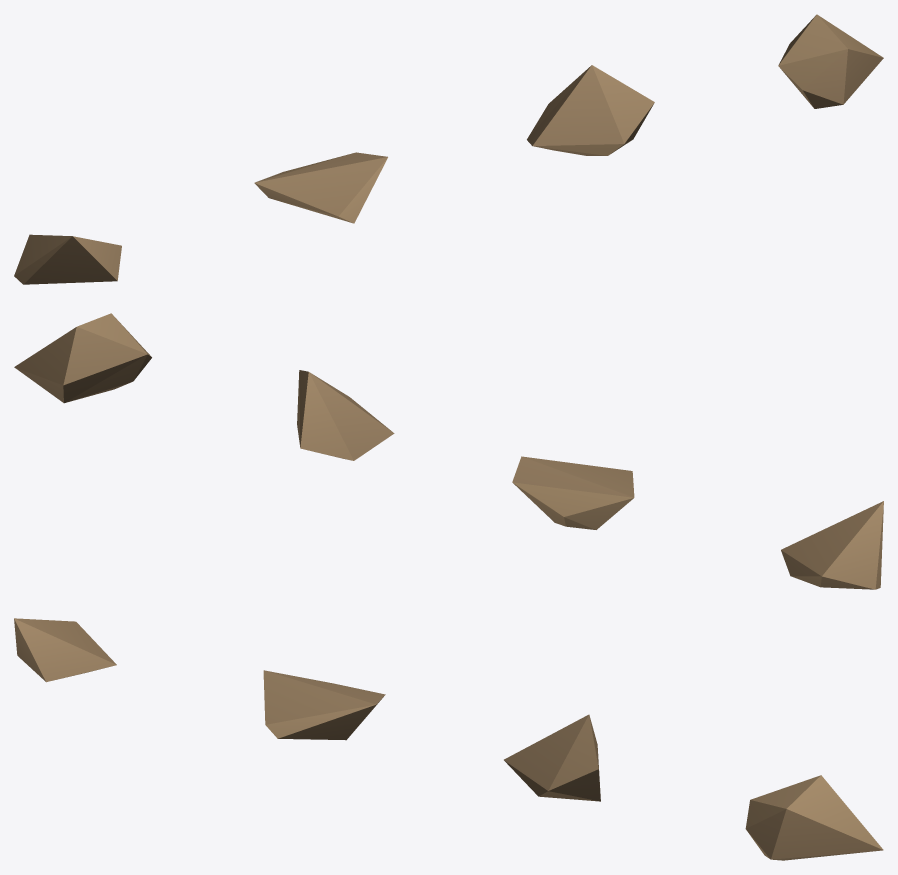
Rendered from pebbles.glb.
3 renders of one model, top to bottom at view 1: azimuth 30°, elevation 25°; view 2: azimuth 150°, elevation 25°; view 3: azimuth 330°, elevation 25°, orthographic.
Visible parts, largest first — view 1: pebble_2, pebble_3, pebble_1, pebble_0; view 2: pebble_3, pebble_1, pebble_0, pebble_2; view 3: pebble_3, pebble_1, pebble_2, pebble_0.
Boxes of the visible parts, left/top/right/bottom form: pebble_2: left=527, top=65, right=654, bottom=155; pebble_3: left=778, top=14, right=883, bottom=108; pebble_1: left=254, top=152, right=387, bottom=223; pebble_0: left=14, top=234, right=121, bottom=284; pebble_3: left=14, top=313, right=151, bottom=403; pebble_1: left=512, top=456, right=634, bottom=529; pebble_0: left=781, top=501, right=883, bottom=589; pebble_2: left=297, top=370, right=394, bottom=460; pebble_3: left=745, top=775, right=883, bottom=860; pebble_1: left=263, top=670, right=385, bottom=740; pebble_2: left=504, top=714, right=600, bottom=801; pebble_0: left=14, top=618, right=116, bottom=682.
Size of the model in its own units: 4.13 by 0.3743 by 0.5255.
